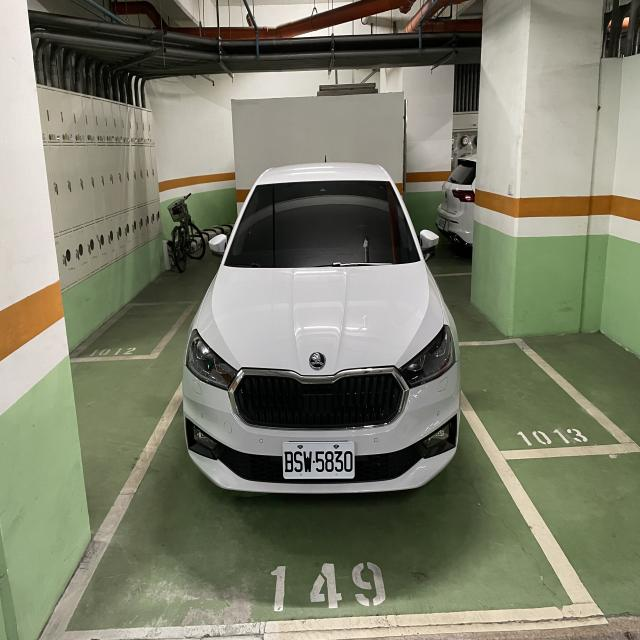license-plate: (282, 441, 355, 480)
